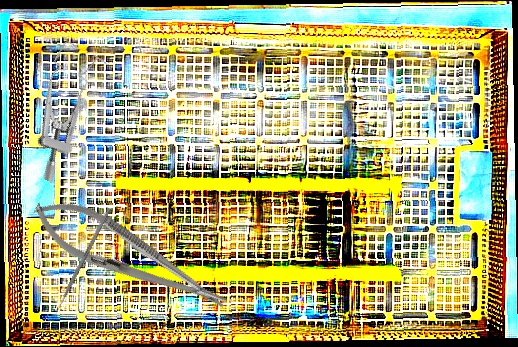Needle Holder: (23, 184, 237, 329)
Pusher: (51, 207, 111, 321)
Speculum: (0, 38, 119, 185)
